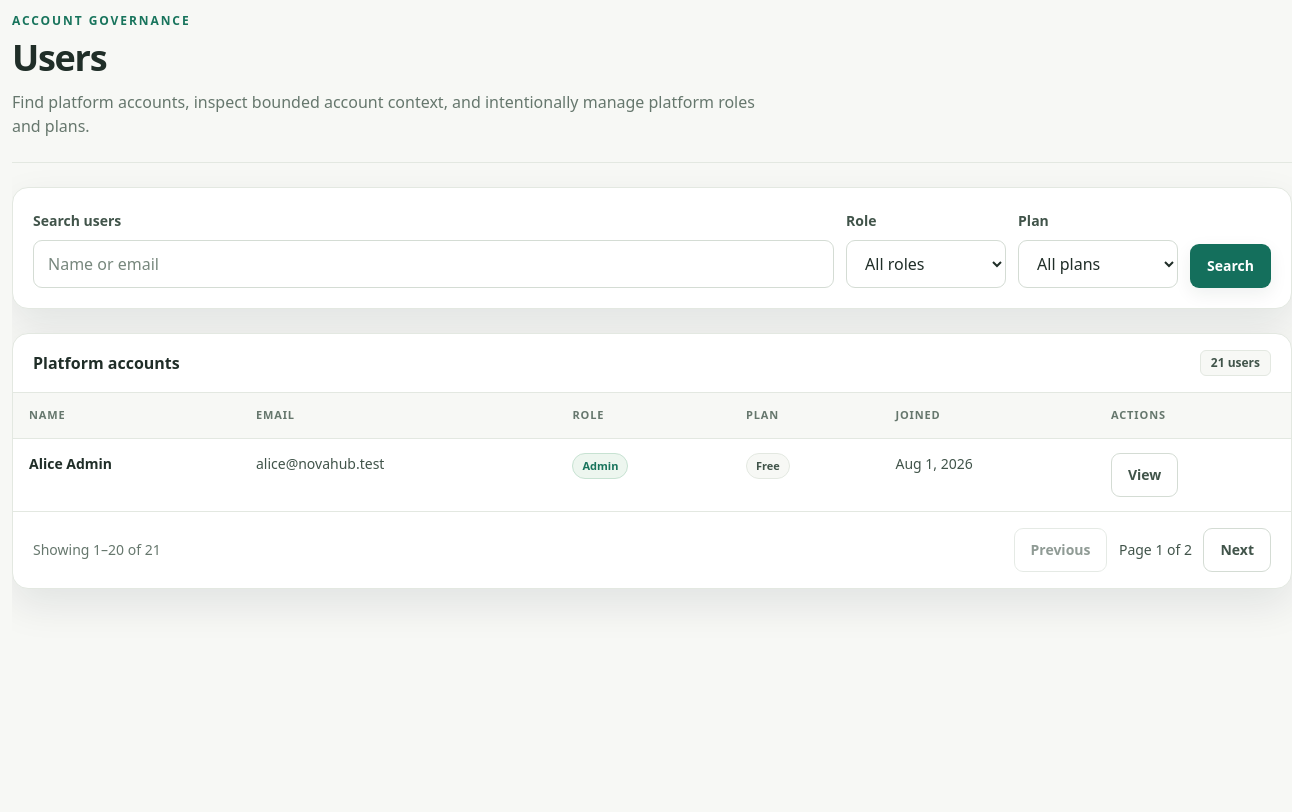
Test: admin users › refetches the last valid page when totals shrink
Click the button "Next": (1237, 550) [1204, 528, 1271, 572]
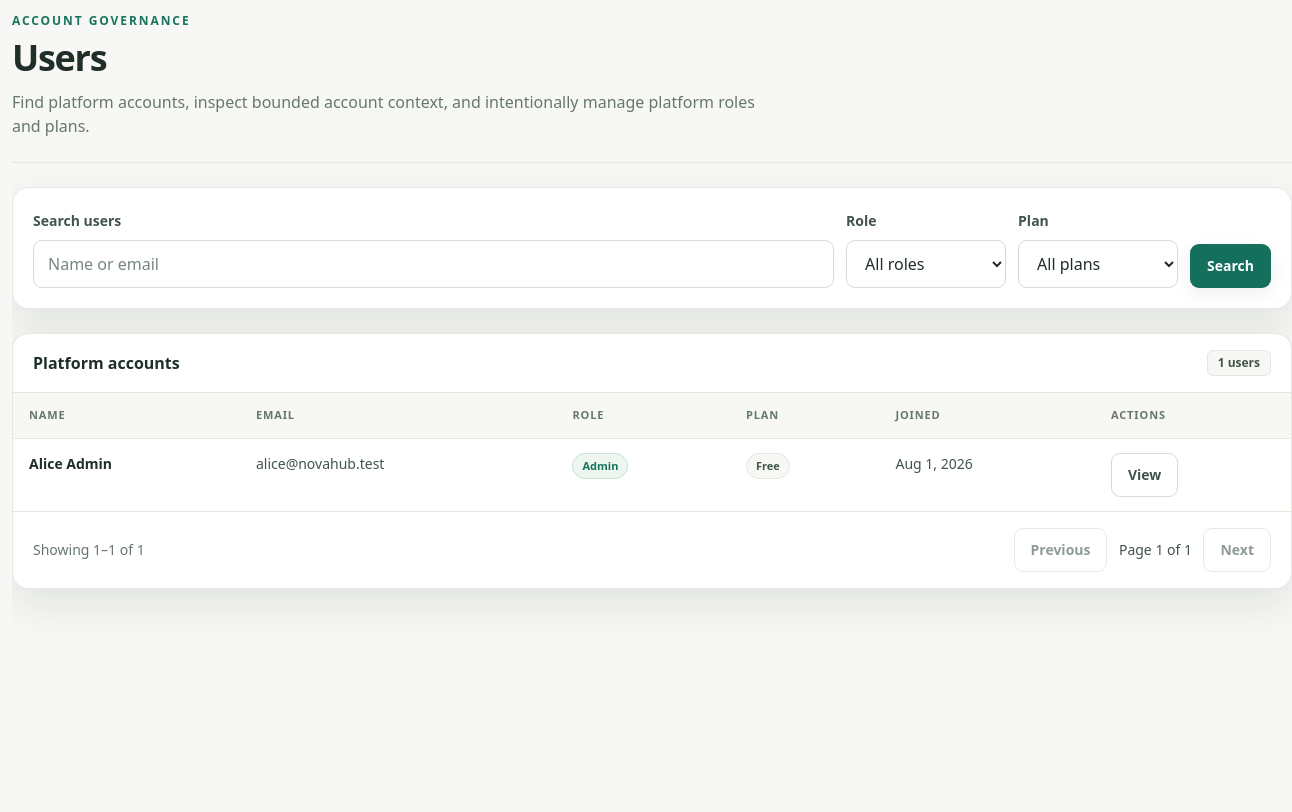
Now the text "Page 1 of 1" is shown, box [1116, 540, 1196, 560]
